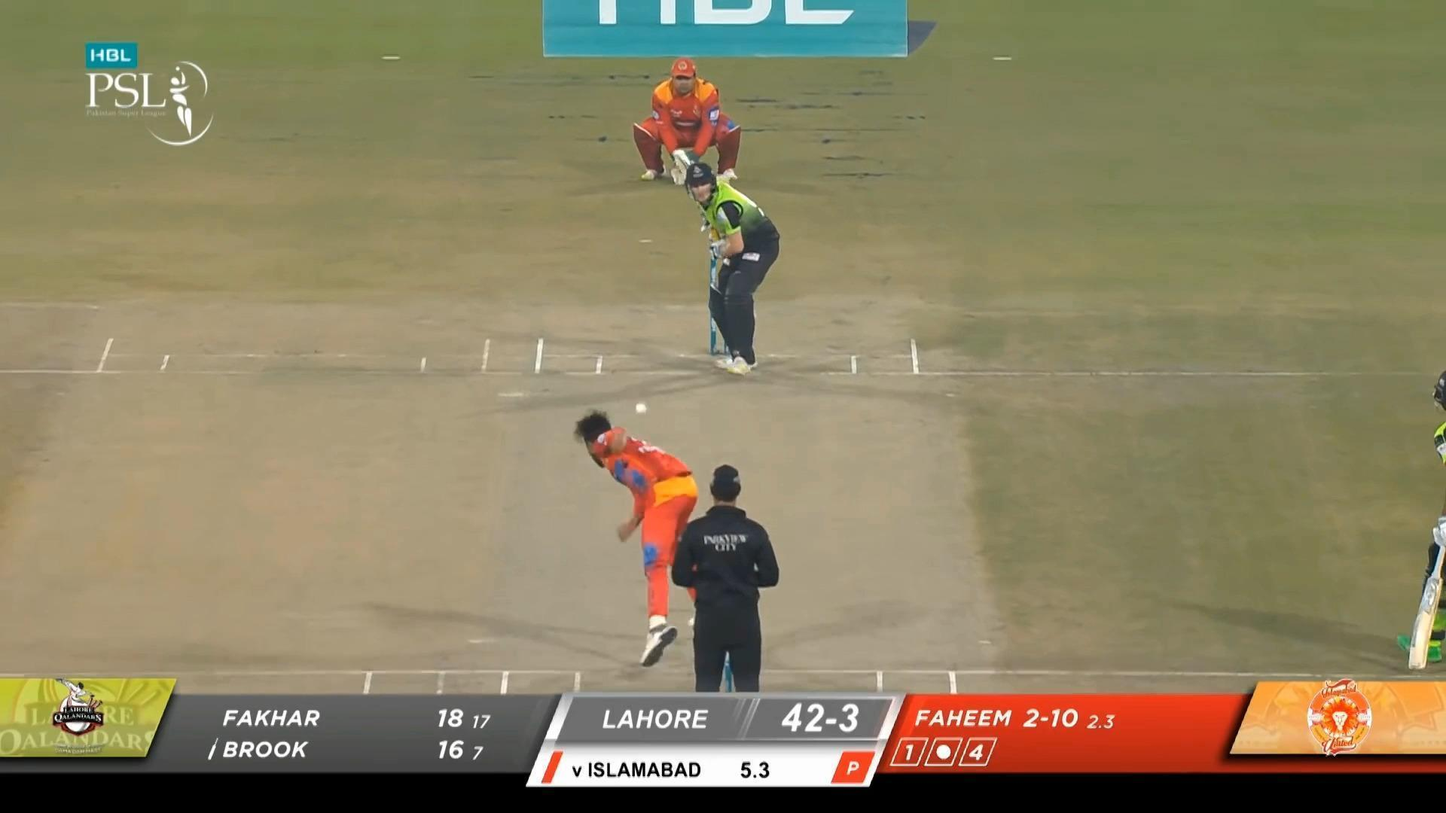BM 1: (672, 149, 779, 376)
BO: (572, 410, 701, 666)
